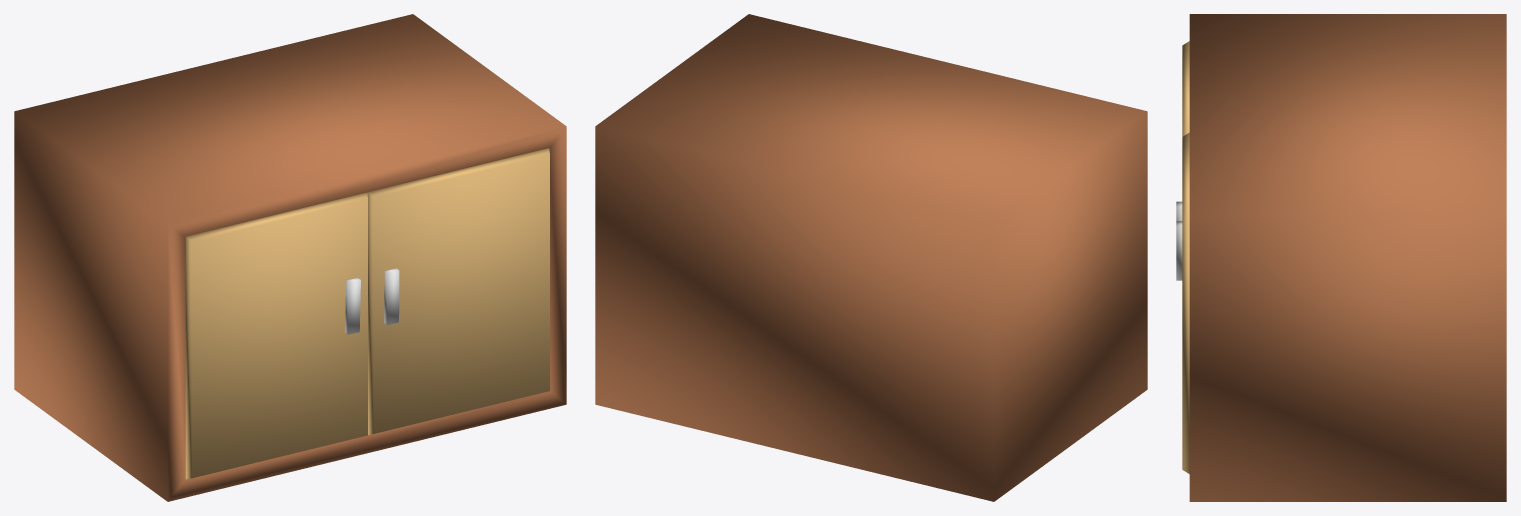
The model's file is 2Door.Upper.B.fbx.
The picture shows the model from 3 angles, left to right: view 1: azimuth 30°, elevation 25°; view 2: azimuth 150°, elevation 25°; view 3: azimuth 270°, elevation 25°; orthographic projection. The views are drawn at different scales.
Visible parts, largest first — view 1: 2Door.Upper.B; view 2: 2Door.Upper.B; view 3: 2Door.Upper.B.
Part boxes in pixels (x1,y1,x2,y2): 2Door.Upper.B: (14,14,566,501); 2Door.Upper.B: (595,14,1147,501); 2Door.Upper.B: (1176,14,1506,501).
Bounding box in the file's own units: 133 × 88.61 × 92.44.
